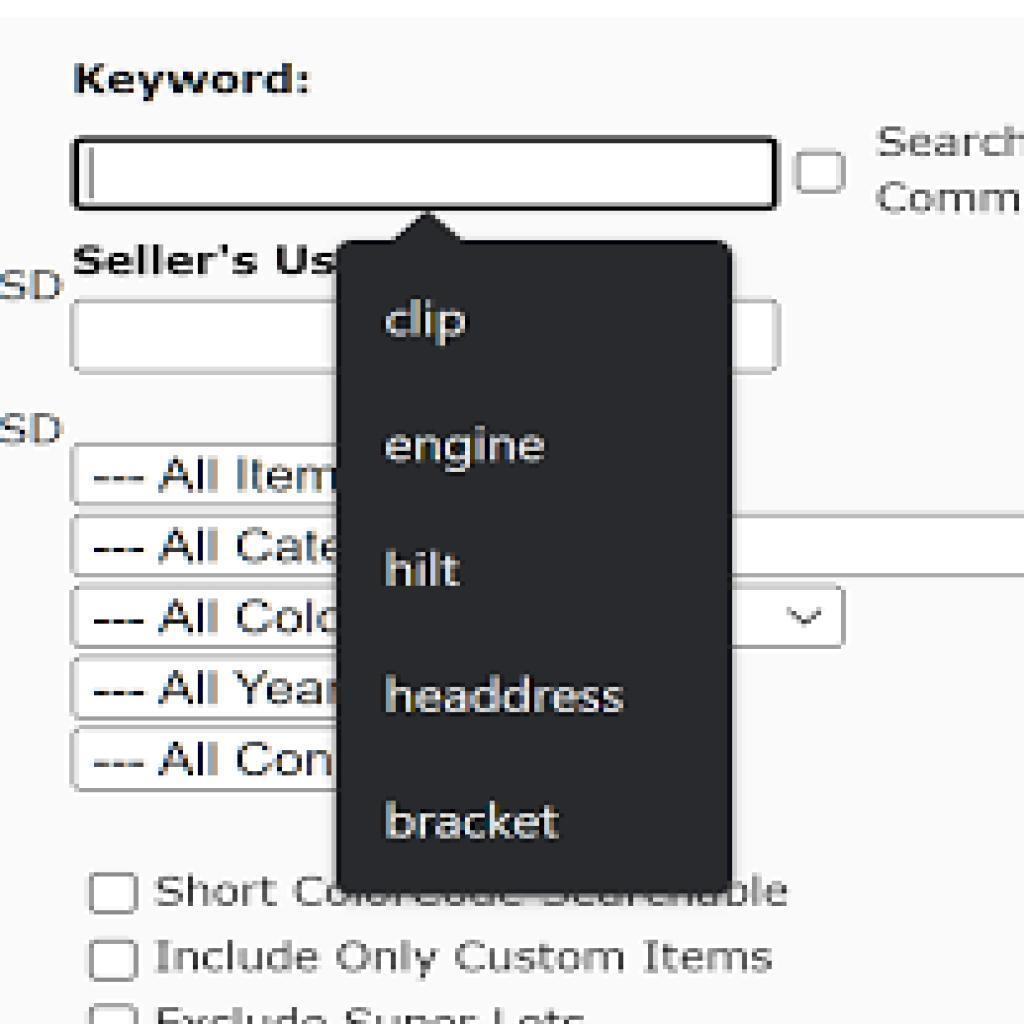checkbox: (87, 938, 142, 984), (795, 150, 847, 197), (88, 872, 141, 916)
dropdown: (734, 585, 848, 651)
input: (70, 133, 783, 216), (70, 300, 337, 375)
label: (151, 935, 777, 981), (74, 60, 316, 109)
